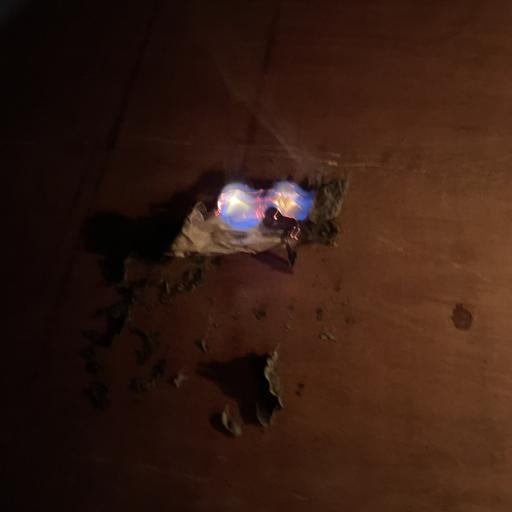fire: (168, 153, 353, 273)
